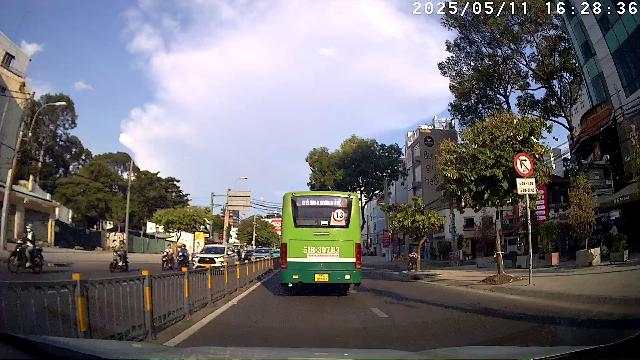103b-cam-oto-re-phai: (514, 152, 534, 178)
